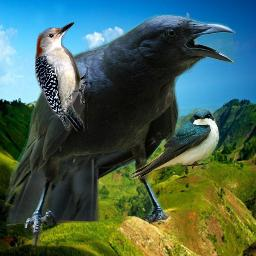Crow: (2, 14, 236, 247)
Swallow: (129, 108, 220, 179)
Woodpecker: (35, 22, 88, 131)
